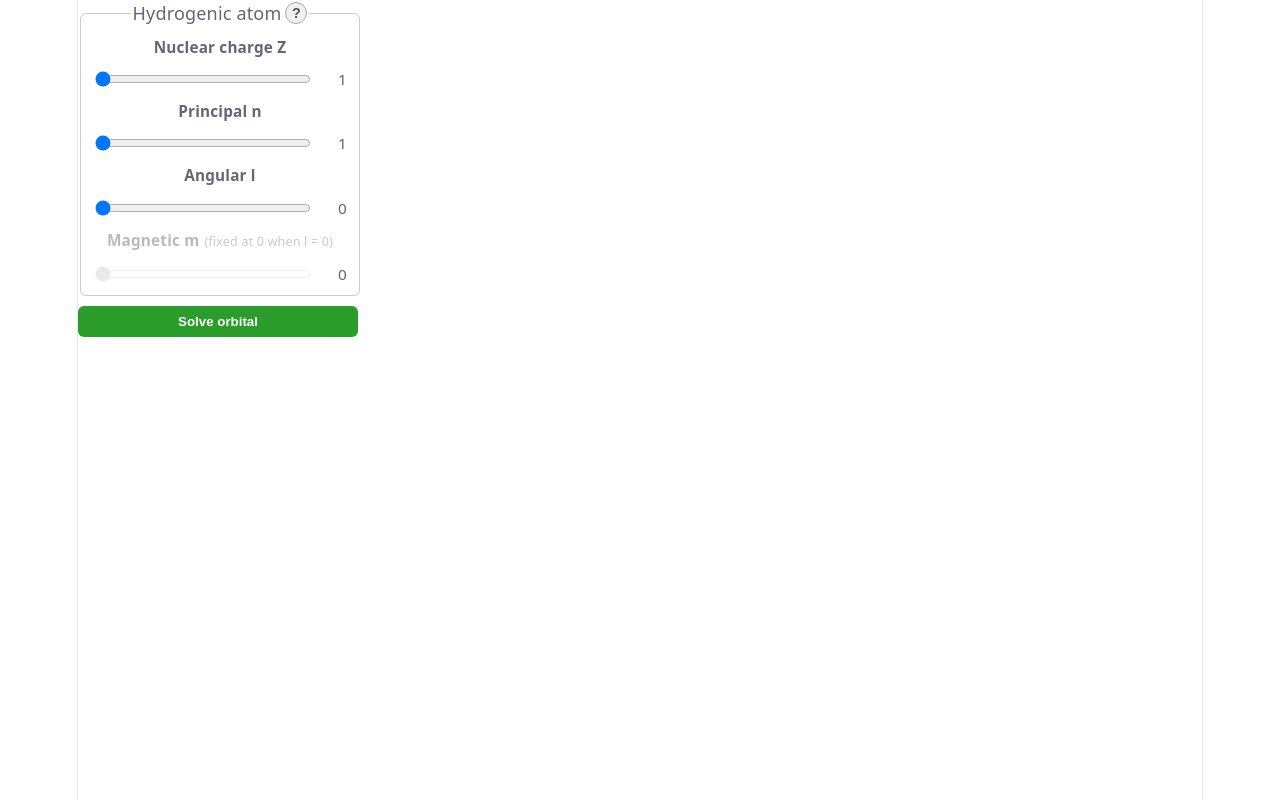
Spec 19 — help modal › modal contains "X-ray" scaling section (req 9)
Click the button named "show hydrogenic reference" at (296, 13), box left=285, top=2, right=307, bottom=24
(page scrolled)
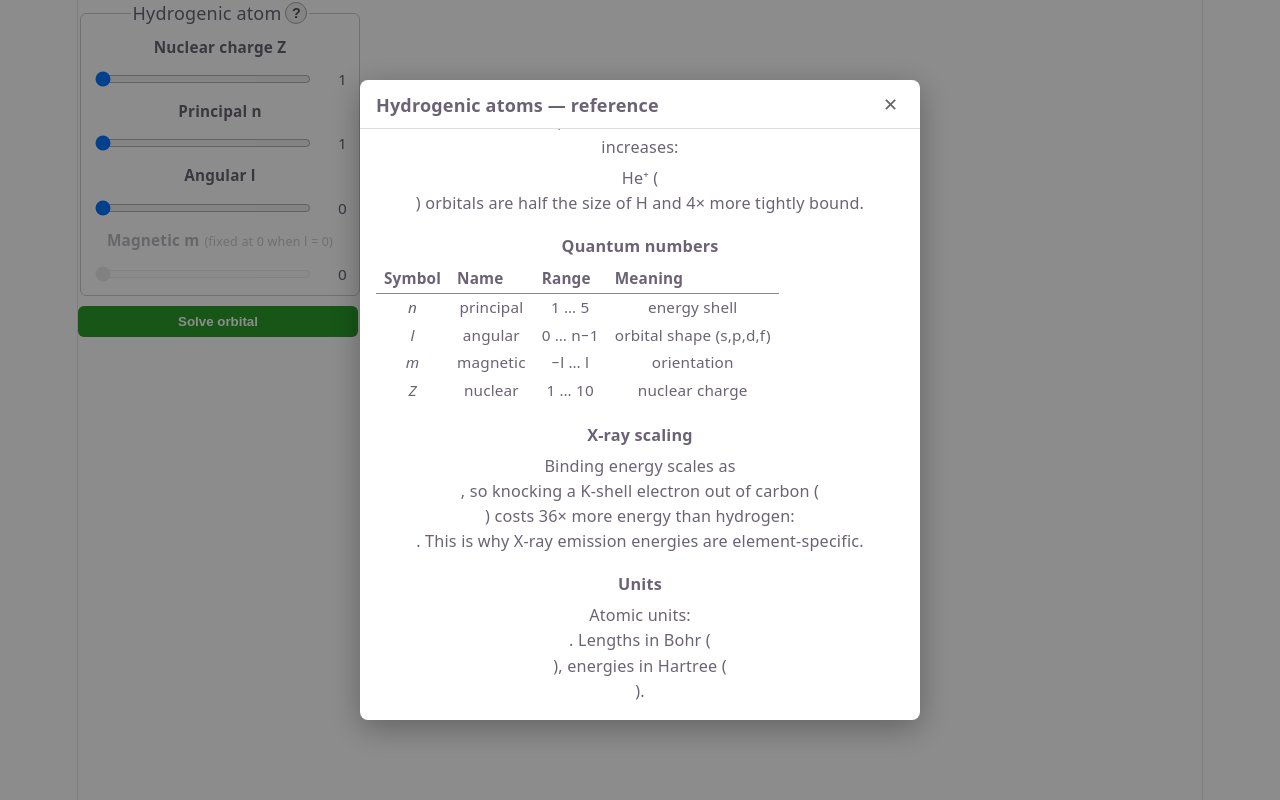
Expected: the heading "X-ray scaling" is shown, left=587, top=424, right=693, bottom=446
